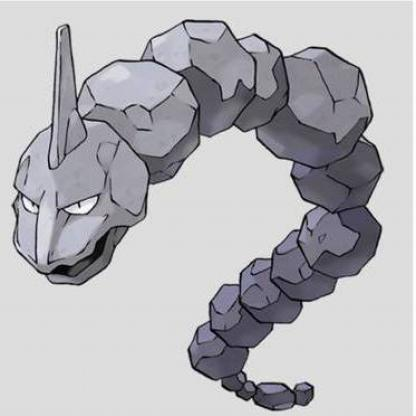Onix: (15, 23, 413, 413)
